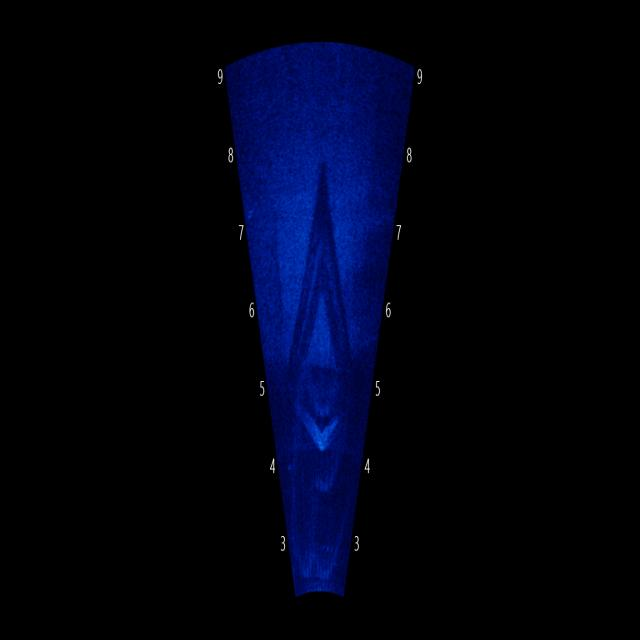triangle: (279, 117, 371, 460)
